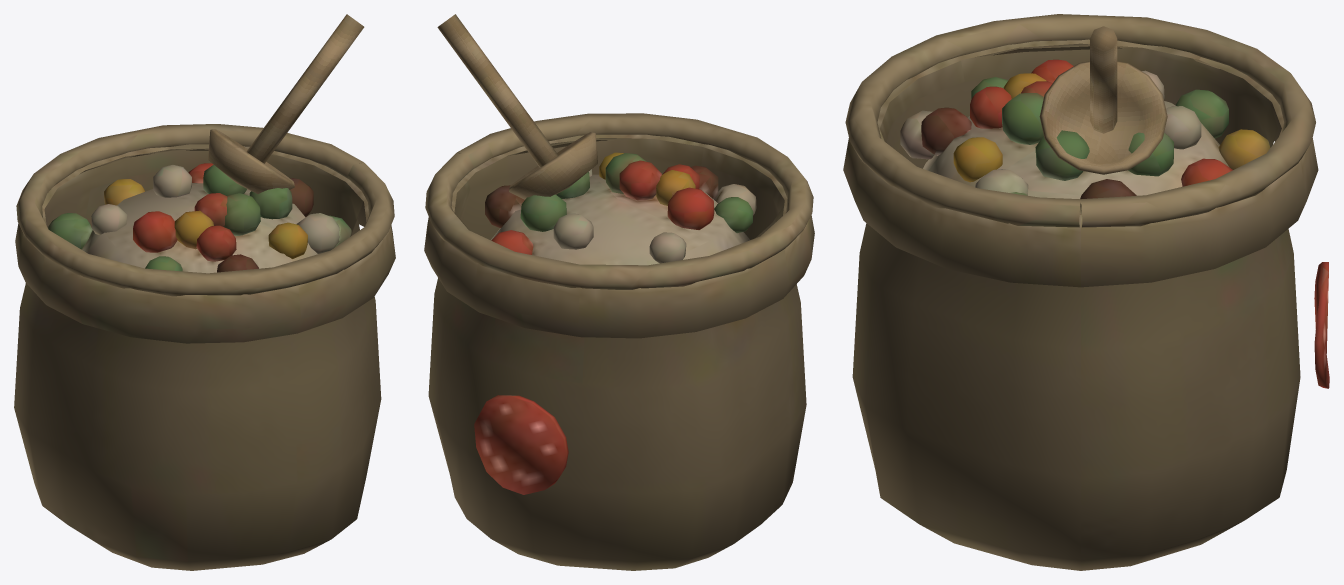
File: pellet_sack_mix.glb
3 views of the same model, side by side, from view 1: azimuth 30°, elevation 25°; view 2: azimuth 150°, elevation 25°; view 3: azimuth 270°, elevation 25° (orthographic). The views are drawn at different scales.
Parts seen in each view (by area): view 1: prop_pellet_sack_mix_felt, prop_pellet_sack_mix_wood; view 2: prop_pellet_sack_mix_felt, prop_pellet_sack_mix_wood; view 3: prop_pellet_sack_mix_felt, prop_pellet_sack_mix_wood.
Part boxes in pixels (x1=…): prop_pellet_sack_mix_felt: x1=14, y1=124, x2=395, y2=570; prop_pellet_sack_mix_wood: x1=208, y1=14, x2=364, y2=193; prop_pellet_sack_mix_felt: x1=424, y1=113, x2=814, y2=570; prop_pellet_sack_mix_wood: x1=437, y1=14, x2=597, y2=199; prop_pellet_sack_mix_felt: x1=843, y1=14, x2=1329, y2=570; prop_pellet_sack_mix_wood: x1=1039, y1=26, x2=1167, y2=174.
Bounding box in the file's own units: 0.4179 × 0.5482 × 0.4259.
Materials: 2 (2 with a texture image).
